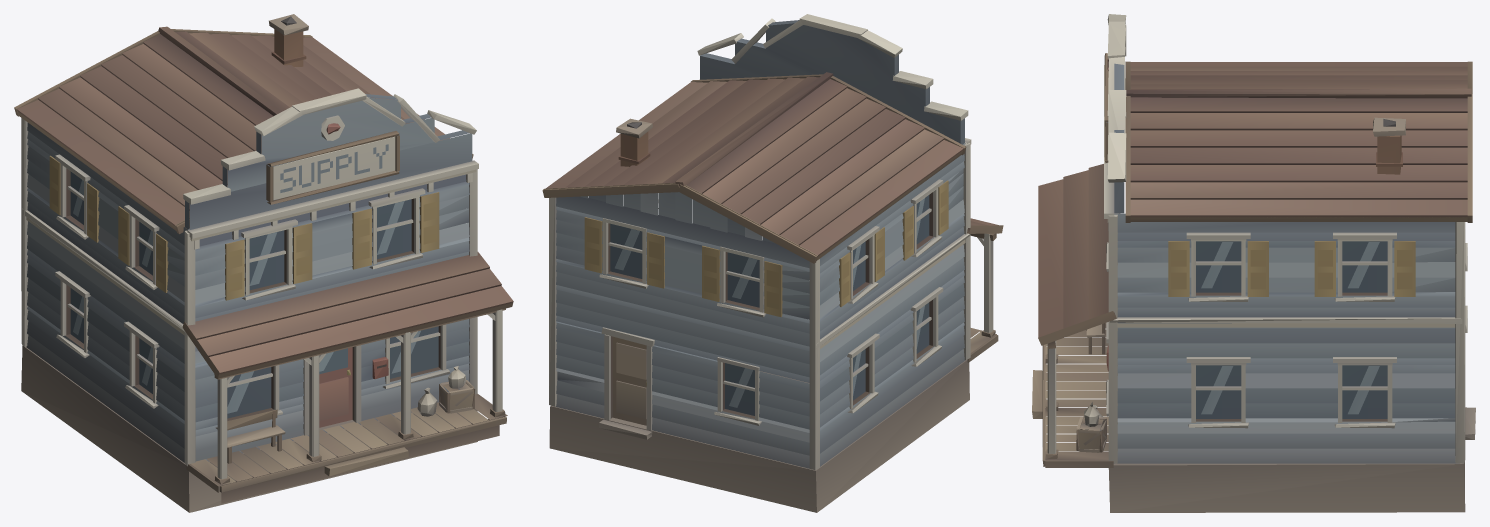
Rendered from house_7.lod1.glb.
The picture shows the model from 3 angles, left to right: view 1: azimuth 30°, elevation 25°; view 2: azimuth 150°, elevation 25°; view 3: azimuth 270°, elevation 25°; orthographic projection. The views are drawn at different scales.
Bounding box in the file's own units: 7.45 × 9.03 × 9.09.
